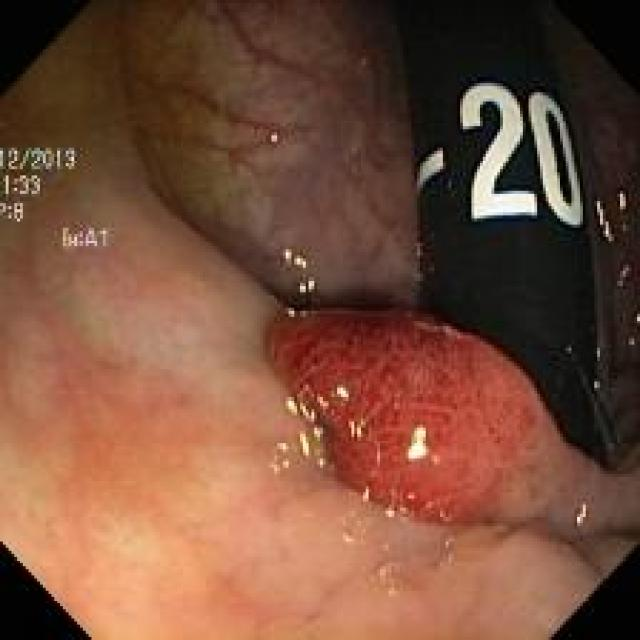Polyps: (268, 310, 545, 524)
